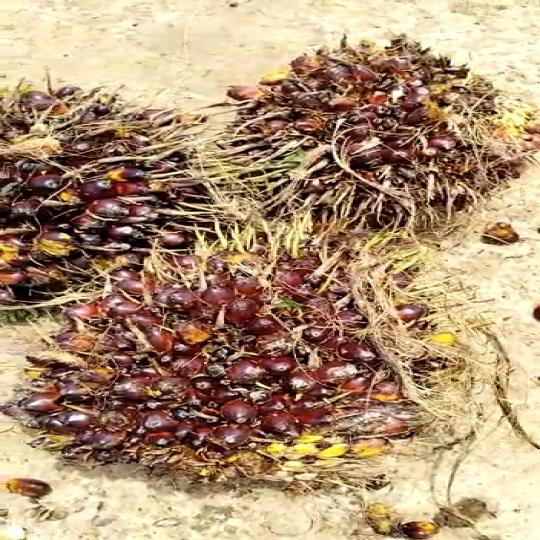masak: (28, 210, 474, 516), (206, 24, 540, 250), (0, 68, 229, 322)
